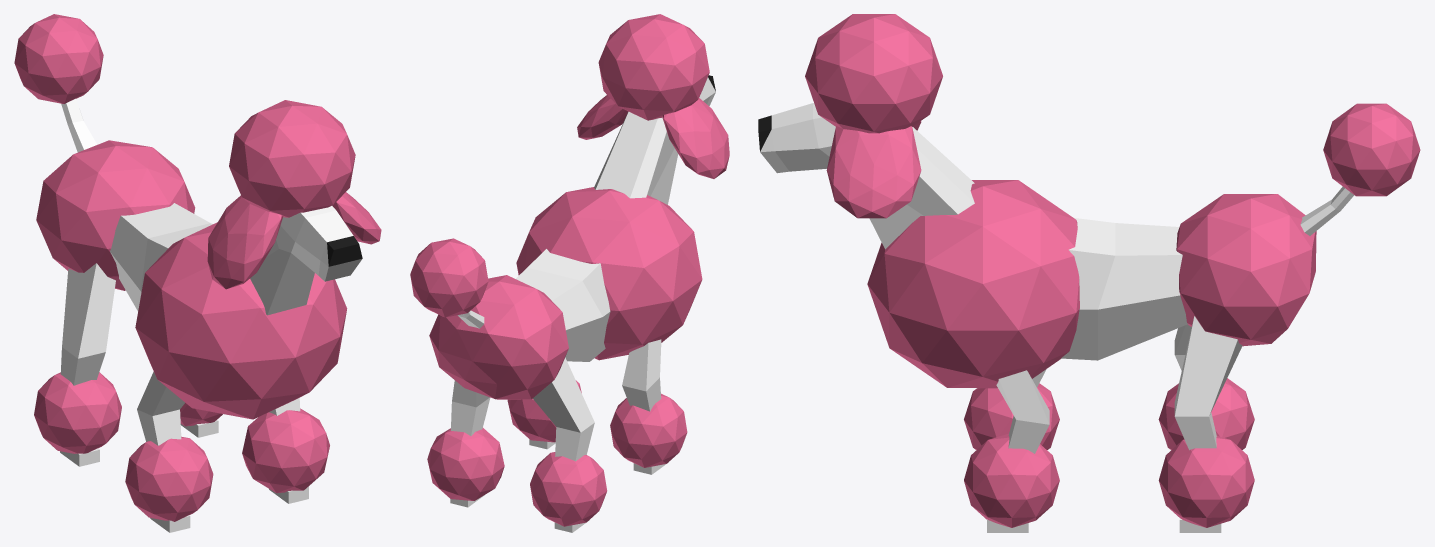
File: poodle.glb
The picture shows the model from 3 angles, left to right: view 1: azimuth 30°, elevation 25°; view 2: azimuth 150°, elevation 25°; view 3: azimuth 270°, elevation 25°; orthographic projection. The views are drawn at different scales.
Visible parts, largest first — view 1: node-0; view 2: node-0; view 3: node-0.
Part boxes in pixels (x1,y1,x2,y2): node-0: [14, 14, 381, 532]; node-0: [410, 14, 729, 532]; node-0: [758, 14, 1420, 532].
Size of the model in its own units: 10.18 by 22.87 by 28.64.
